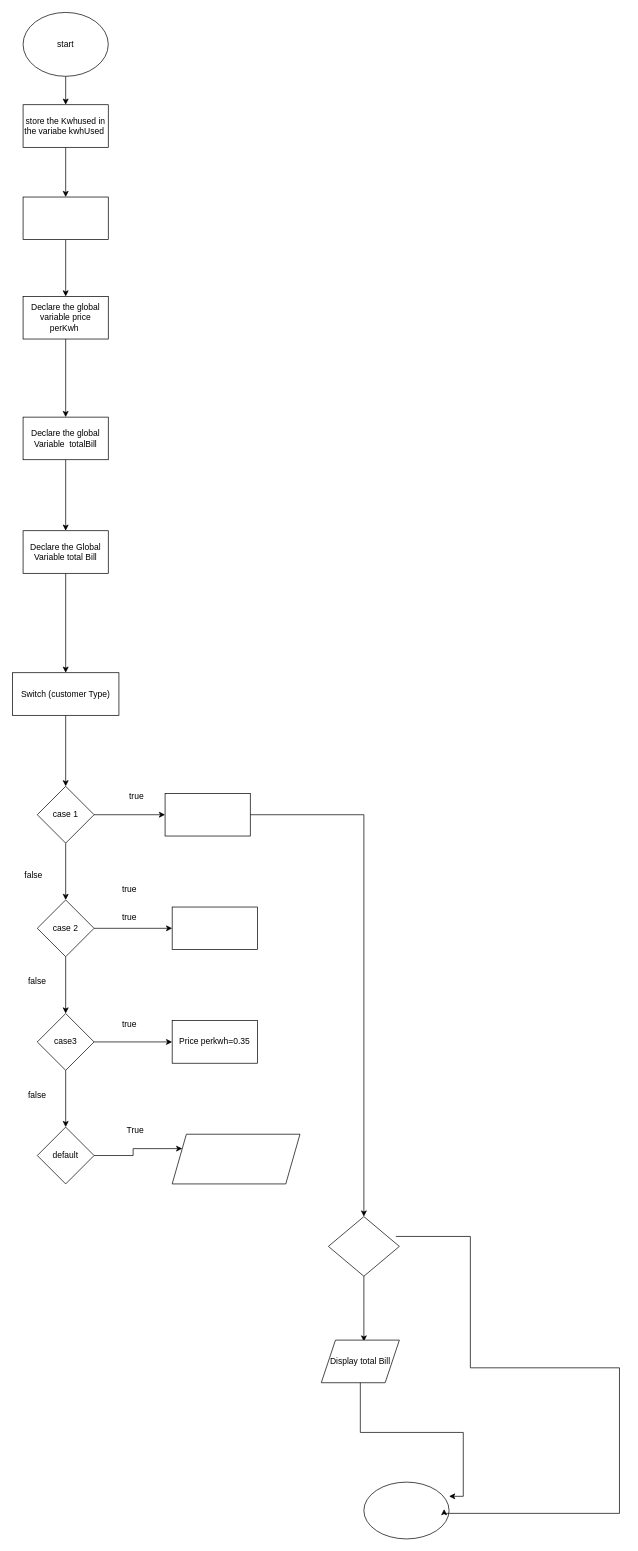
Some shapes in this 638 by 1551 pixel diagram are drawn without their labels. Here are the shapes that lost their labels. From the top down, the centre of each, then its label:
At (65,218): "store the customer type in the Variable Customer type".
At (207,814): "price perKwh =0.12".
At (214,928): "price Per Kwh =0.20".
At (235,1159): "Invaild customer Type code".
At (363,1246): "price perKwh !==null".
At (406,1510): "End".
